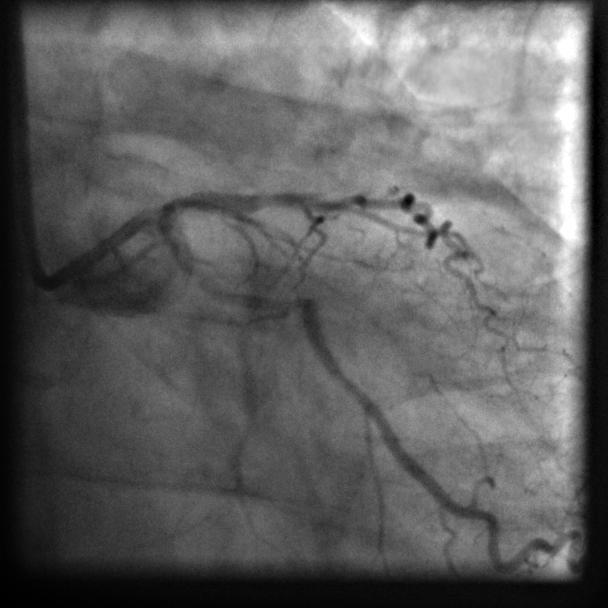Stenosis: (214, 278, 300, 314)
